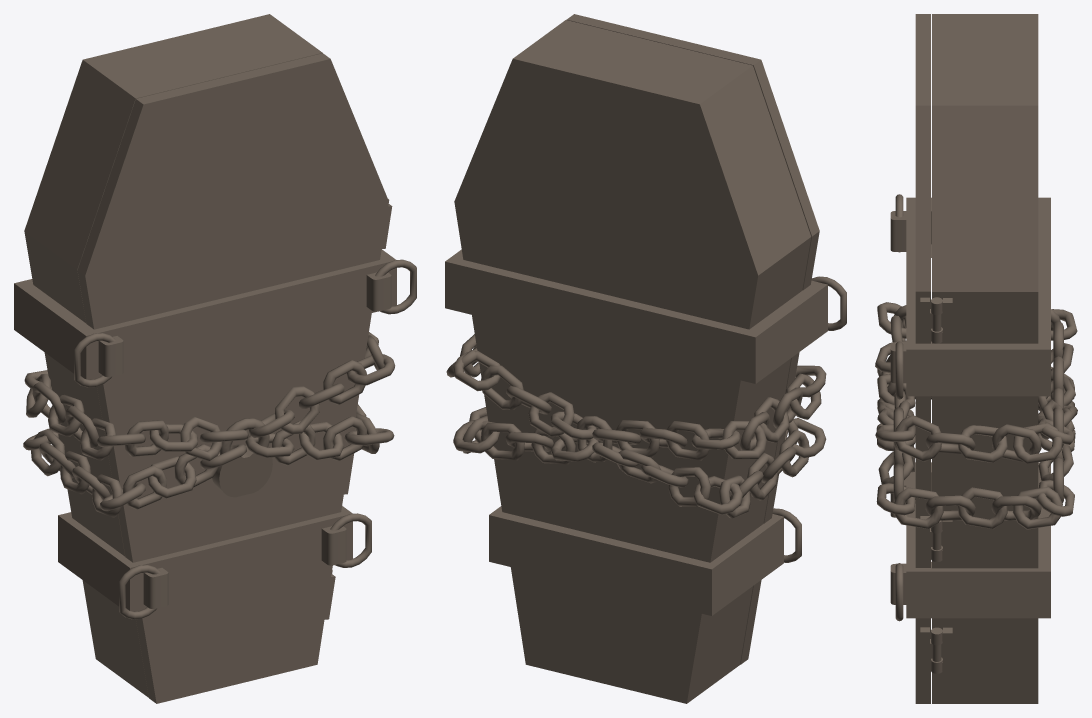
File: State.FBX
3 views of the same model, side by side, from view 1: azimuth 30°, elevation 25°; view 2: azimuth 150°, elevation 25°; view 3: azimuth 270°, elevation 25° (orthographic).
Parts seen in each view (by area): view 1: powerful_coffin_1; view 2: powerful_coffin_1; view 3: powerful_coffin_1.
Boxes of the visible parts, x1,y1,x2,y2 form: powerful_coffin_1: (14, 14, 416, 703); powerful_coffin_1: (445, 14, 846, 703); powerful_coffin_1: (875, 14, 1077, 703).
Bounding box in the file's own units: 109 × 183 × 55.76.
